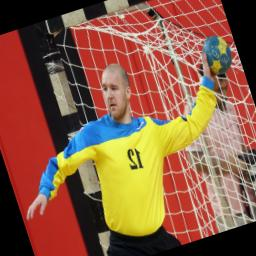football: (198, 32, 237, 78)
